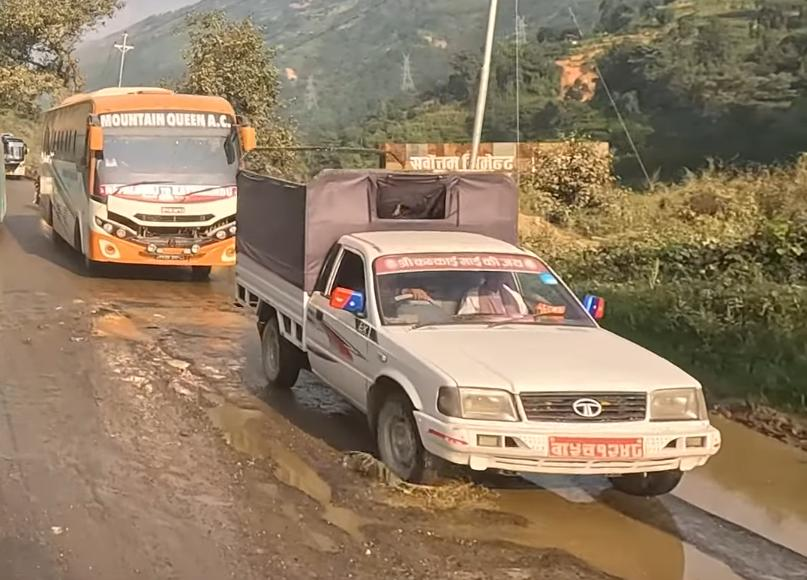bus: (25, 77, 247, 287), (0, 128, 31, 193)
transport_vehicle: (230, 135, 724, 510)
